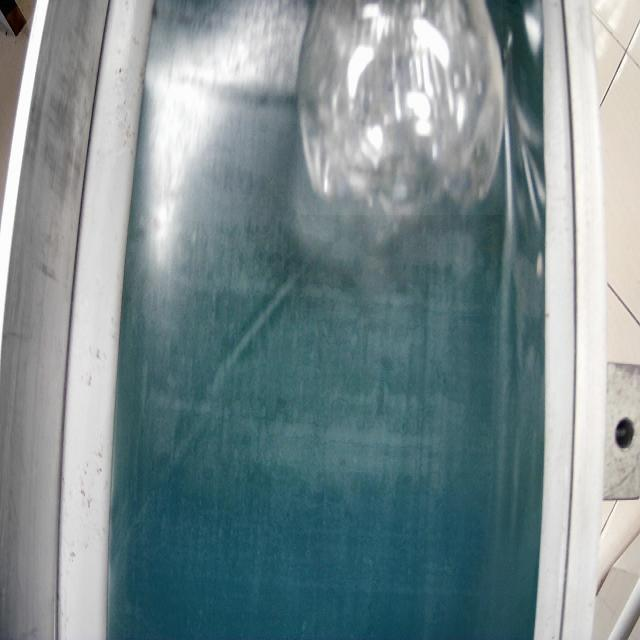BotolPlastik: (265, 1, 512, 208)
